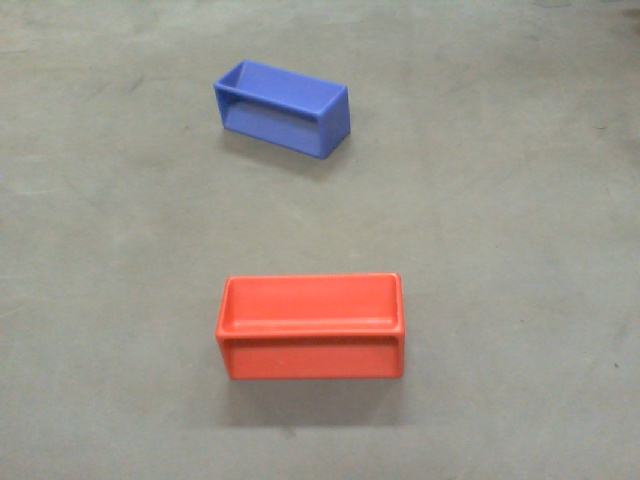BlueSample: (212, 57, 352, 166)
RedSample: (213, 271, 407, 381)
